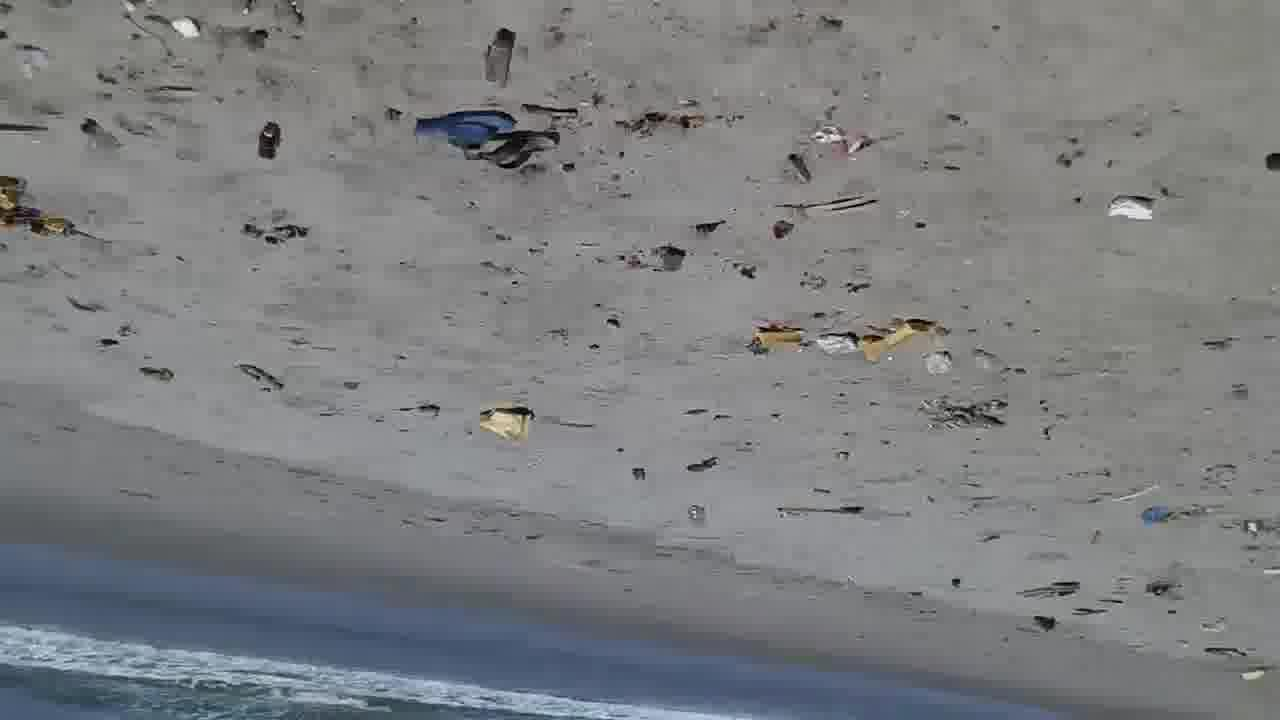large collection of objects: (245, 218, 308, 266), (688, 504, 706, 528)
obj: (406, 107, 562, 170), (1, 172, 100, 242), (864, 316, 956, 364), (613, 105, 706, 140), (775, 194, 881, 224), (924, 397, 1004, 432), (1138, 502, 1224, 526), (479, 407, 535, 443), (748, 329, 808, 360), (487, 28, 516, 88), (772, 501, 866, 518), (812, 126, 872, 152), (251, 117, 283, 164), (1112, 480, 1164, 506), (1106, 195, 1156, 220), (1016, 581, 1079, 600), (1015, 612, 1064, 634), (973, 350, 1013, 374), (1142, 580, 1184, 600), (170, 16, 200, 40), (818, 334, 856, 352), (684, 456, 721, 474), (923, 354, 950, 376), (1247, 520, 1263, 543), (1200, 618, 1225, 632), (1241, 668, 1264, 679), (632, 466, 647, 482)
sand/background: (1, 538, 1073, 719)
